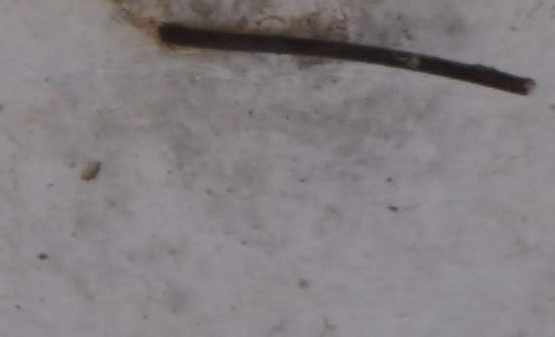Exposed reinforcement: (159, 21, 538, 99)
